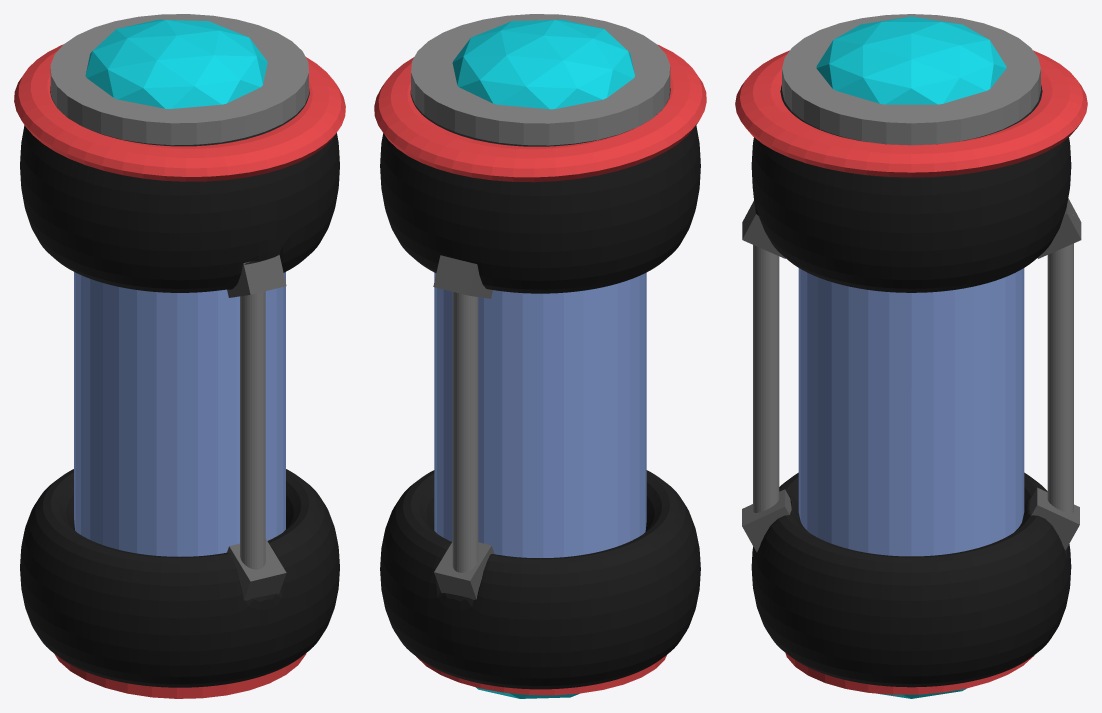
Rendered from bOlt collectable 1.fbx.
The picture shows the model from 3 angles, left to right: view 1: azimuth 30°, elevation 25°; view 2: azimuth 150°, elevation 25°; view 3: azimuth 270°, elevation 25°; orthographic projection.
Parts seen in each view (by area): view 1: Vidrio, Contenedor inferior, Contenedor superior, segunda pre tapa, Pre tapa, Tapa, Tubo 2.001, Segunda pre tapa inferior, Sostenedor 3, Sostenedor 2; view 2: Vidrio, Contenedor inferior, Contenedor superior, segunda pre tapa, Pre tapa, Tapa, Tubo 2, Sostenedor 1, Sostenedor 4, Segunda pre tapa inferior; view 3: Vidrio, Contenedor inferior, Contenedor superior, Pre tapa, segunda pre tapa, Tapa, Tubo 2, Tubo 2.001, Segunda pre tapa inferior, Sostenedor 1, Sostenedor 3, Sostenedor 4 (+1 smaller).
Boxes of the visible parts, bbox=[...] form: Vidrio: bbox=[74, 272, 285, 556]; Contenedor inferior: bbox=[20, 469, 339, 687]; Contenedor superior: bbox=[20, 86, 339, 292]; segunda pre tapa: bbox=[50, 14, 308, 145]; Pre tapa: bbox=[14, 44, 345, 181]; Tapa: bbox=[85, 19, 267, 108]; Tubo 2.001: bbox=[240, 291, 265, 569]; Segunda pre tapa inferior: bbox=[54, 653, 306, 698]; Sostenedor 3: bbox=[227, 538, 286, 600]; Sostenedor 2: bbox=[227, 254, 286, 297]; Vidrio: bbox=[434, 272, 646, 557]; Contenedor inferior: bbox=[380, 470, 700, 689]; Contenedor superior: bbox=[380, 88, 700, 293]; segunda pre tapa: bbox=[411, 14, 670, 145]; Pre tapa: bbox=[374, 44, 706, 182]; Tapa: bbox=[452, 19, 634, 109]; Tubo 2: bbox=[452, 275, 478, 572]; Sostenedor 1: bbox=[434, 542, 494, 599]; Sostenedor 4: bbox=[433, 255, 492, 298]; Segunda pre tapa inferior: bbox=[416, 655, 666, 695]; Vidrio: bbox=[798, 268, 1024, 556]; Contenedor inferior: bbox=[751, 472, 1071, 687]; Contenedor superior: bbox=[751, 85, 1071, 292]; Pre tapa: bbox=[735, 50, 1087, 177]; segunda pre tapa: bbox=[782, 14, 1040, 145]; Tapa: bbox=[816, 16, 1006, 104]; Tubo 2: bbox=[1047, 214, 1073, 513]; Tubo 2.001: bbox=[753, 245, 779, 512]; Segunda pre tapa inferior: bbox=[785, 653, 1034, 694]; Sostenedor 1: bbox=[1029, 487, 1079, 550]; Sostenedor 3: bbox=[742, 489, 791, 552]; Sostenedor 4: bbox=[1038, 198, 1081, 258].
Size of the model in its own units: 251 by 551 by 273.
